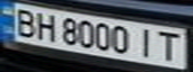0: (93, 20, 115, 52), (75, 18, 96, 50), (112, 24, 133, 55)
8: (57, 15, 81, 46)
B: (9, 7, 39, 38)
H: (33, 10, 60, 42)
I: (133, 26, 160, 60)
T: (154, 28, 184, 62)
